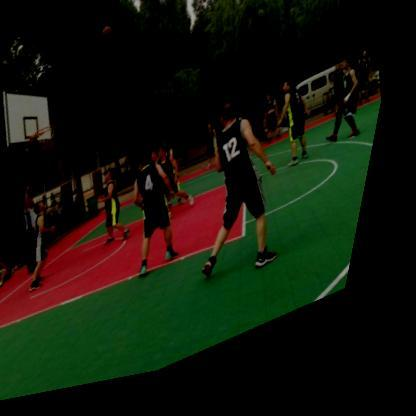basketball: (102, 28, 116, 45)
rim: (37, 125, 66, 157)
